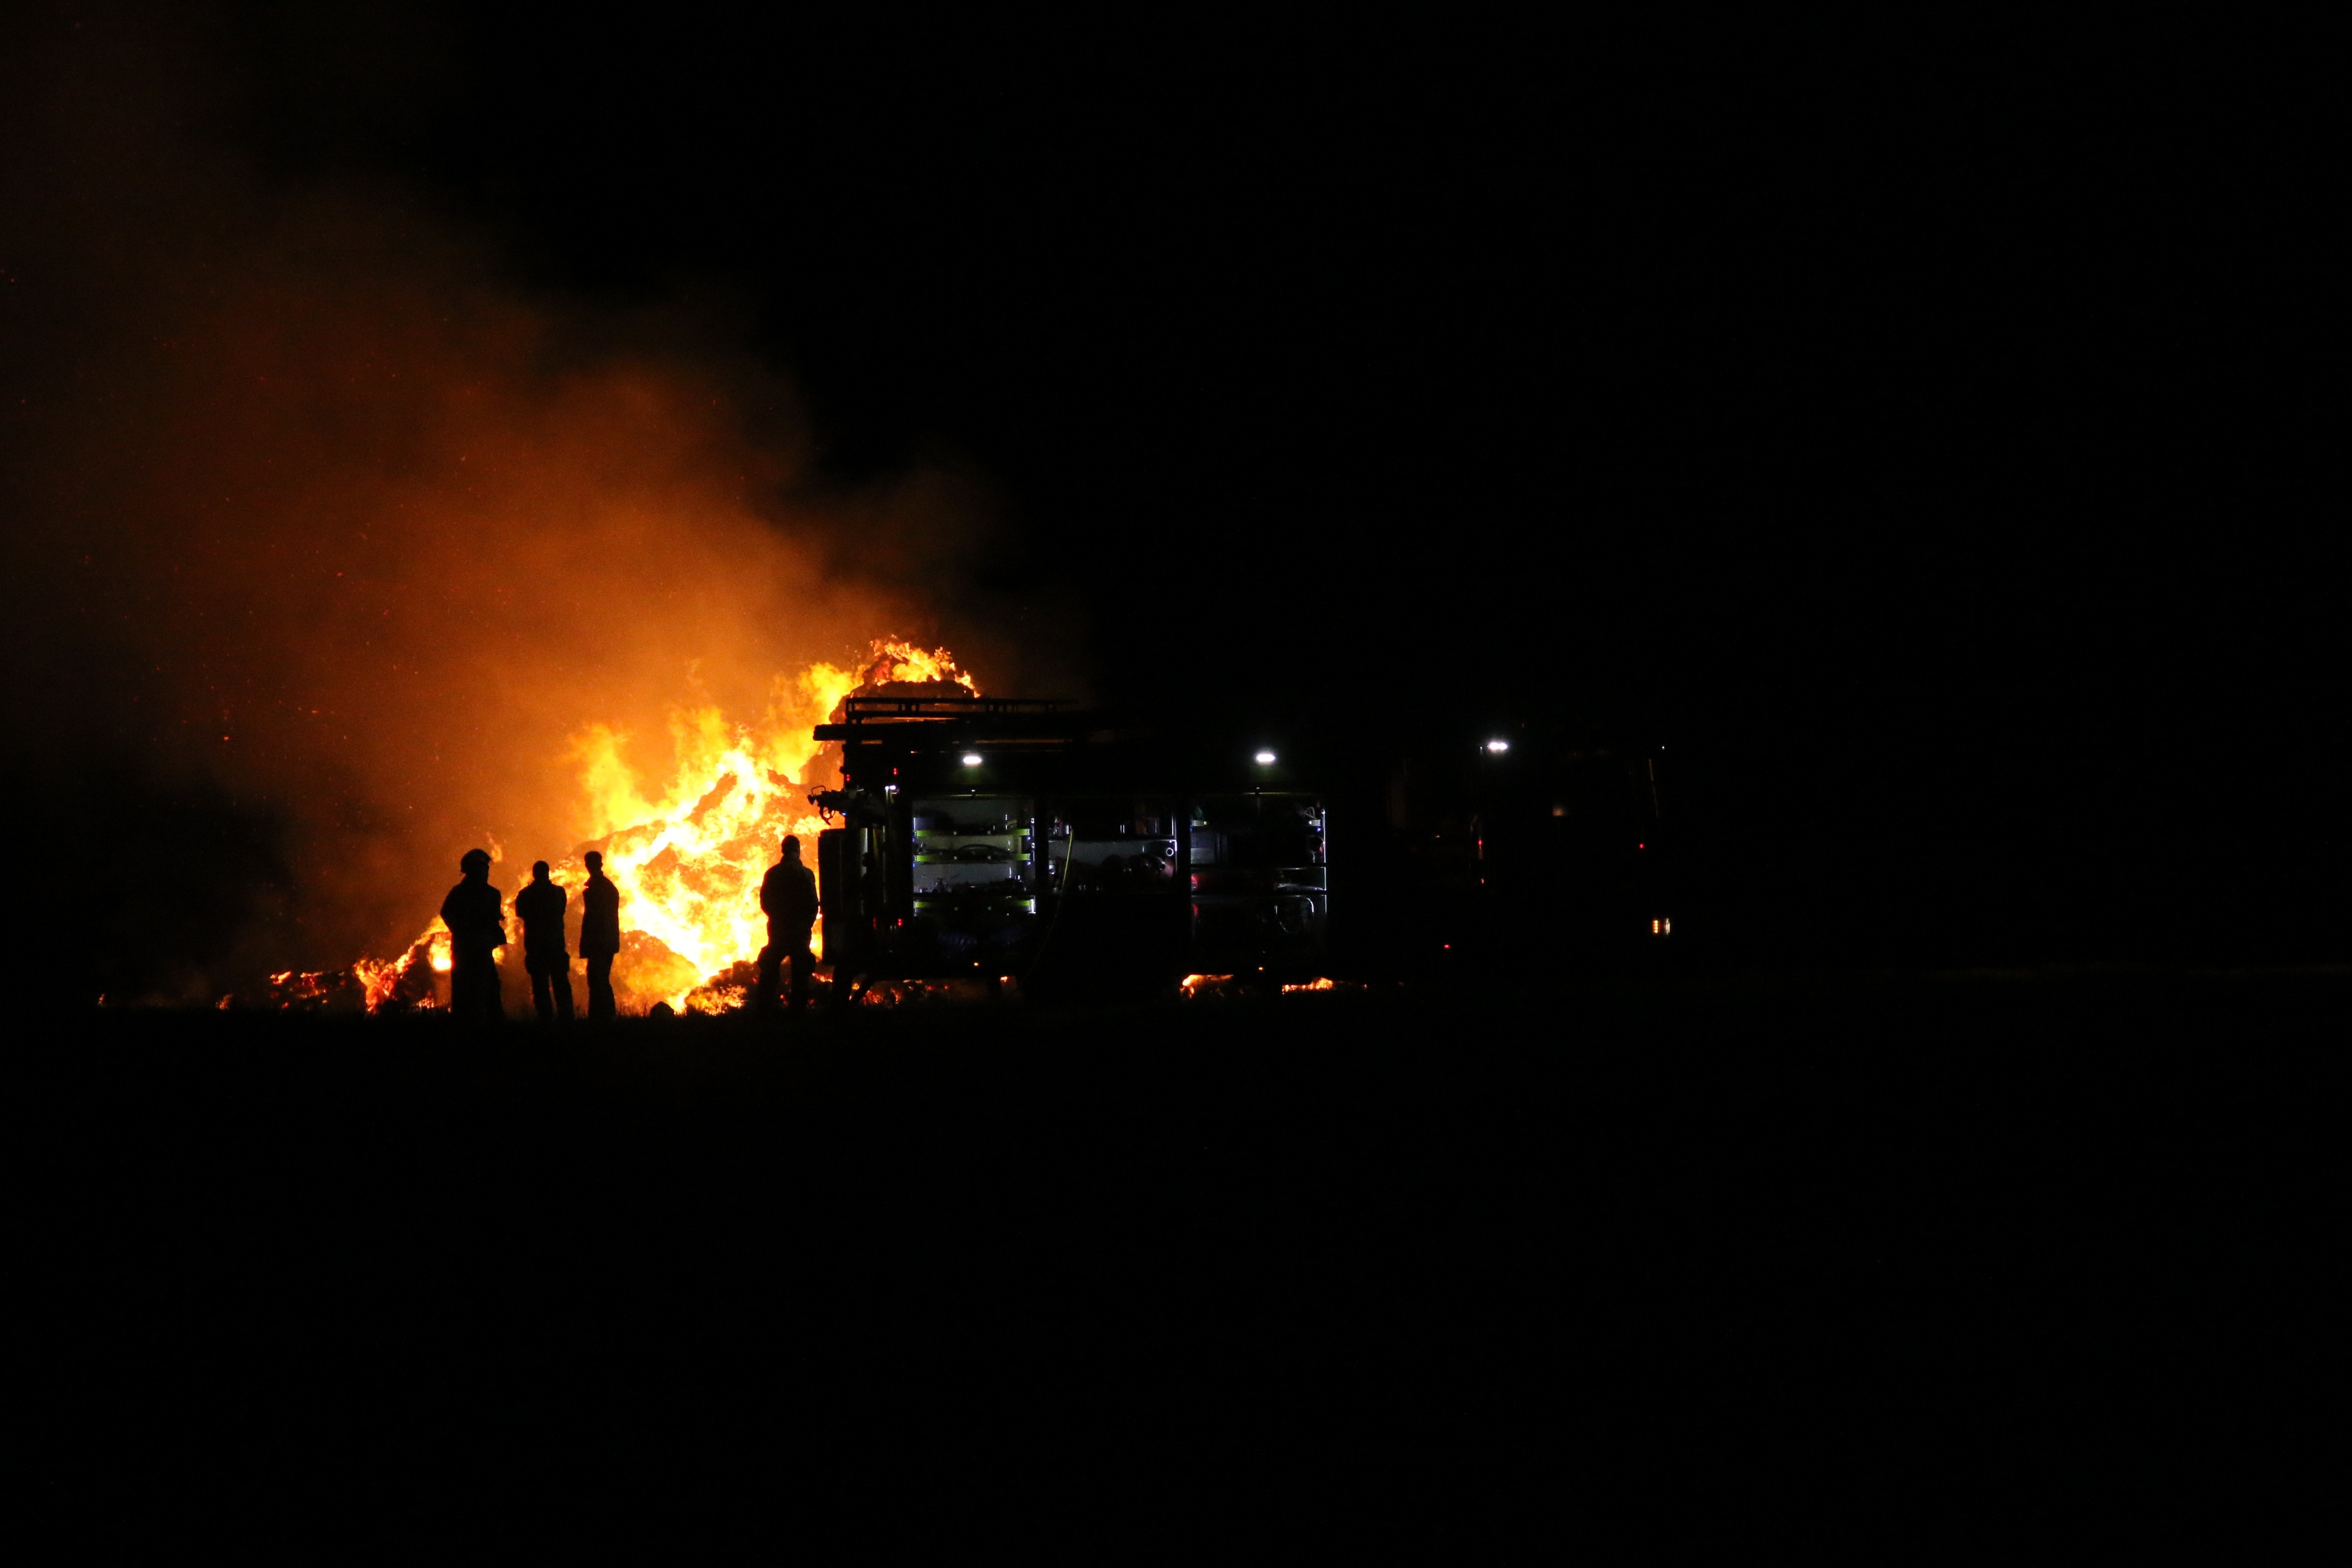fire: (346, 626, 983, 1022)
